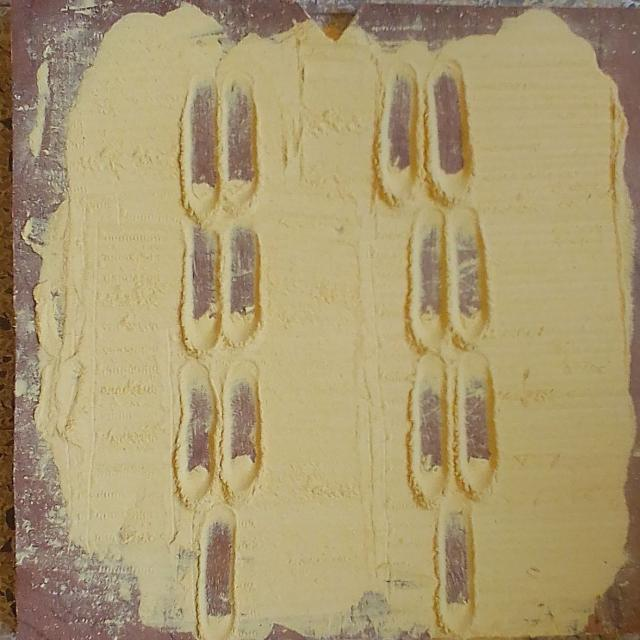double: (382, 69, 477, 177), (170, 362, 261, 472), (180, 211, 266, 325), (406, 366, 502, 464), (181, 82, 263, 192), (408, 220, 491, 327)
single: (433, 510, 479, 614), (201, 511, 236, 614)
